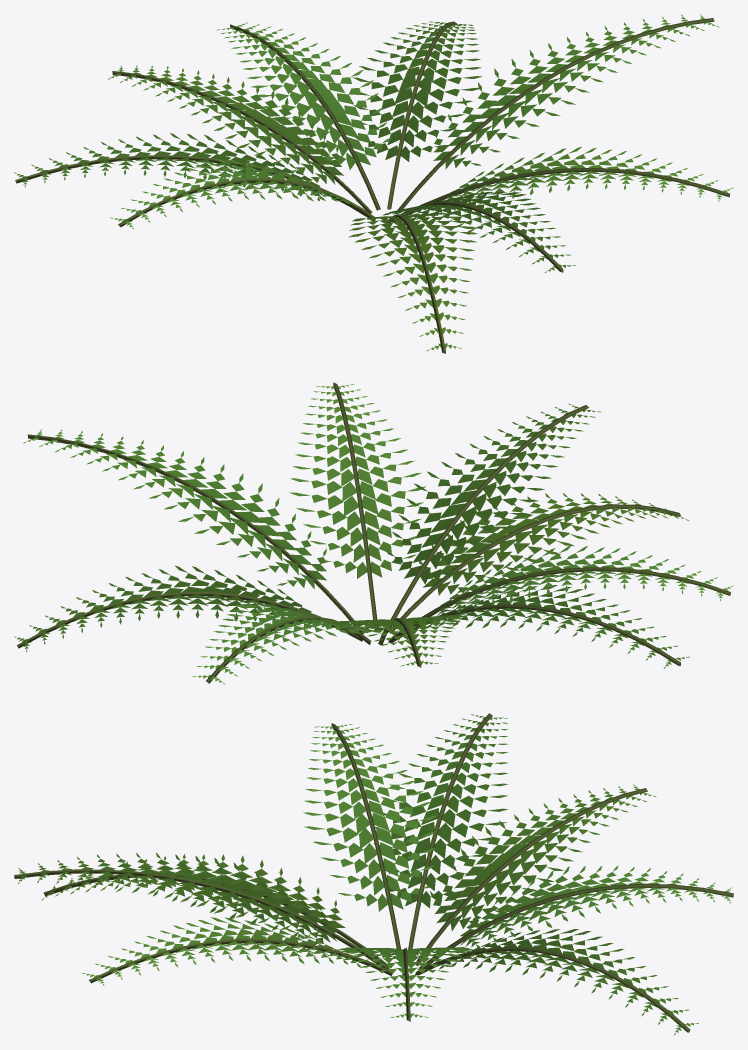
File: fern-lady-a.lod0.glb
3 renders of one model, top to bottom at view 1: azimuth 30°, elevation 25°; view 2: azimuth 150°, elevation 25°; view 3: azimuth 270°, elevation 25°, orthographic. The views are drawn at different scales.
Visible parts, largest first — view 1: fern-lady-a.lod0; view 2: fern-lady-a.lod0; view 3: fern-lady-a.lod0.
Part boxes in pixels (x1,y1,x2,y2): fern-lady-a.lod0: (14,14,733,353); fern-lady-a.lod0: (14,382,733,684); fern-lady-a.lod0: (14,713,733,1035).
Bounding box in the file's own units: 1.5 × 0.2613 × 1.36.
